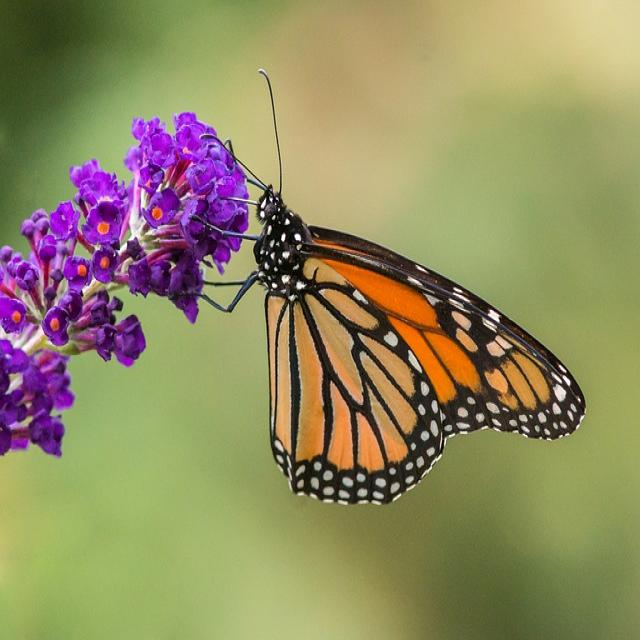butterfly: (225, 188, 585, 503)
